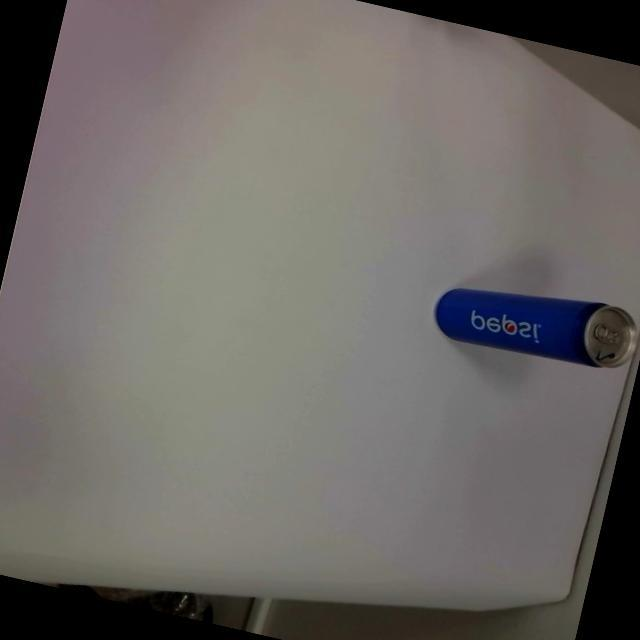debris: (426, 265, 640, 381)
